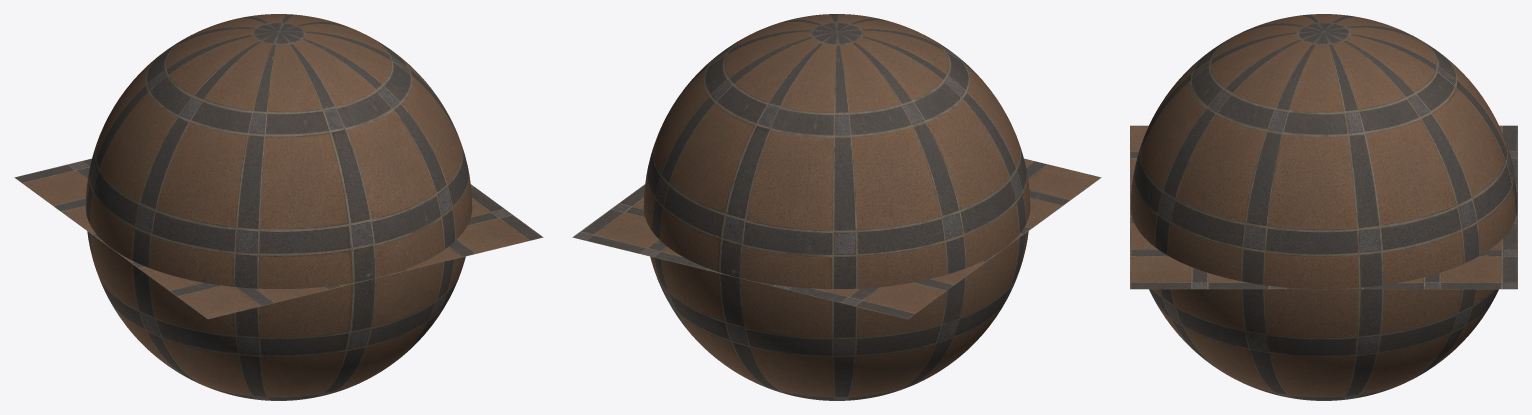
File: granite_tile_02_2k.fbx
The picture shows the model from 3 angles, left to right: view 1: azimuth 30°, elevation 25°; view 2: azimuth 150°, elevation 25°; view 3: azimuth 270°, elevation 25°; orthographic projection.
Parts seen in each view (by area): view 1: Sphere, Plane; view 2: Sphere, Plane; view 3: Sphere, Plane.
Boxes of the visible parts, bbox=[...] form: Sphere: bbox=[85, 14, 472, 400]; Plane: bbox=[14, 158, 543, 319]; Sphere: bbox=[643, 14, 1030, 400]; Plane: bbox=[572, 158, 1101, 319]; Sphere: bbox=[1130, 14, 1517, 400]; Plane: bbox=[1130, 125, 1517, 289].
Bounding box in the file's own units: 188 × 188 × 188.
